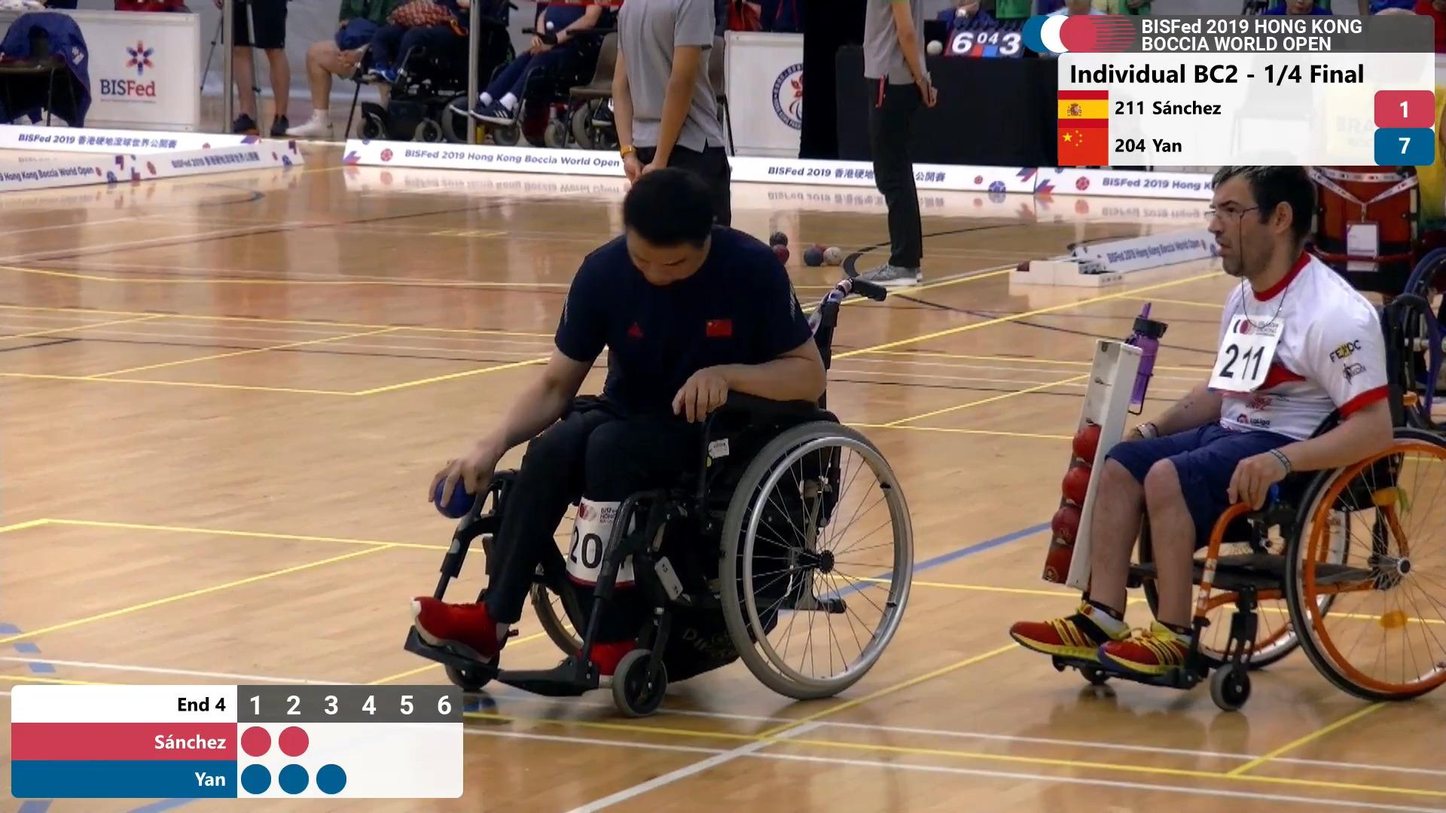blue_ball: (804, 247, 824, 267)
white_ball: (823, 247, 844, 266)
